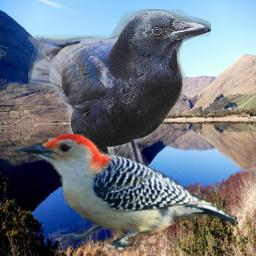Crow: (28, 9, 211, 207)
Woodpecker: (15, 134, 235, 254)
